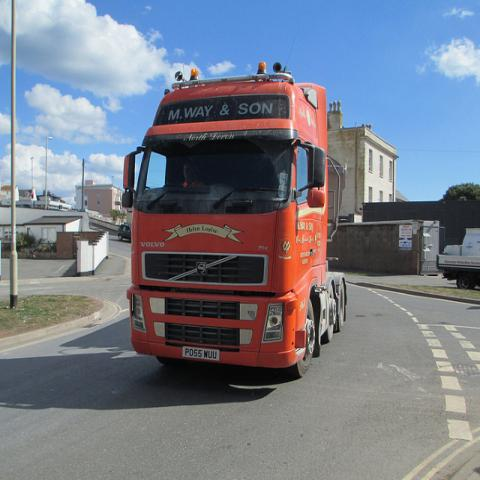car: (116, 222, 132, 244), (86, 210, 103, 217)
truck: (123, 71, 349, 382), (436, 229, 480, 289)
